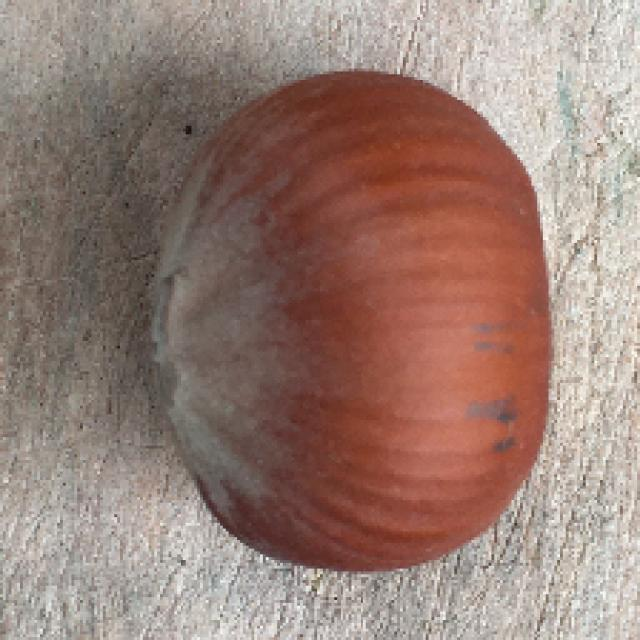qualityHazelnut: (143, 66, 551, 566)
